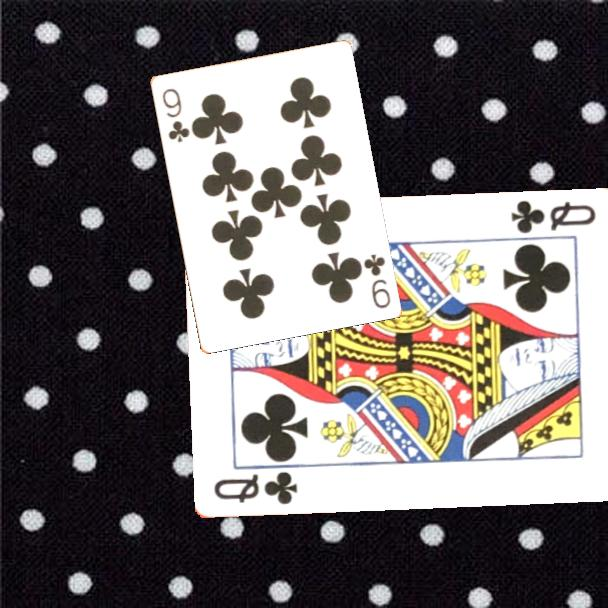c09: (158, 84, 192, 145), (360, 250, 393, 311)
c12: (507, 197, 598, 237), (210, 468, 300, 508)
